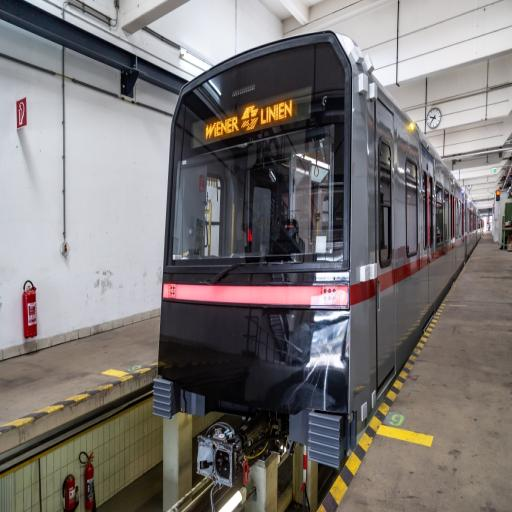X-Wagen: (153, 27, 485, 442)
